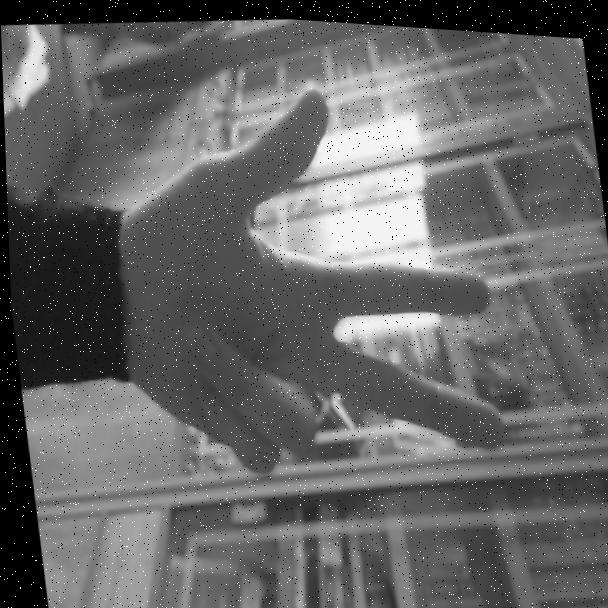three: (55, 25, 547, 545)
